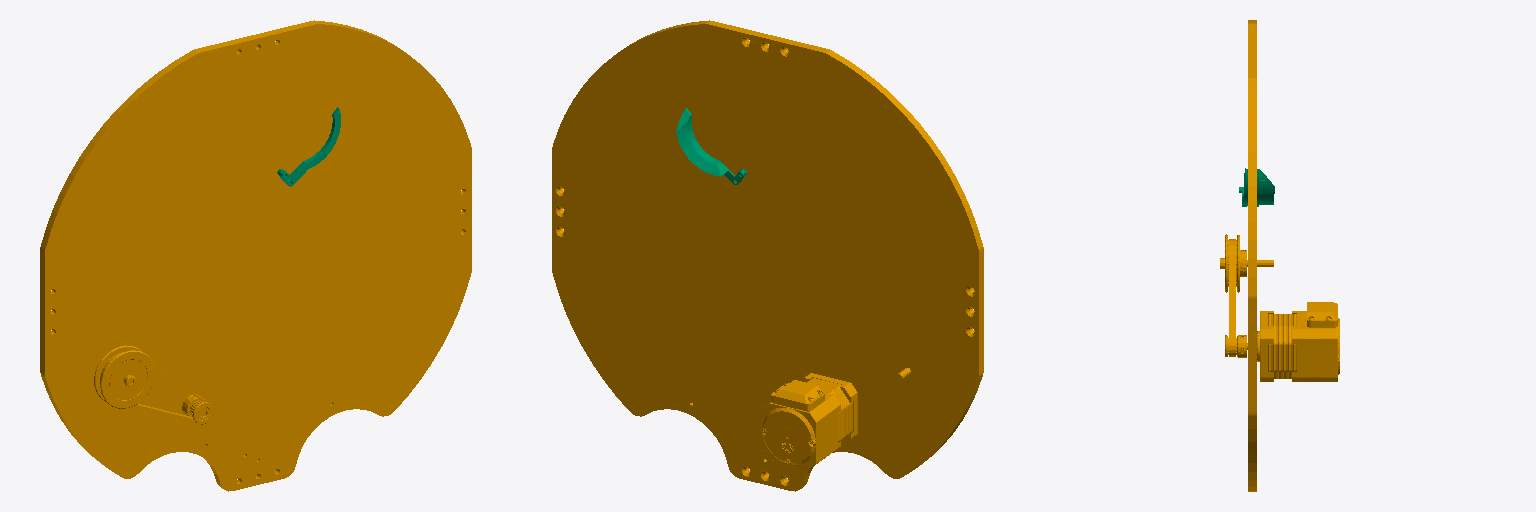
robot.urdf — v5_gripper:
<robot name="v5_gripper">
	<link name="base_link">
		<inertial>
			<origin rpy="0 0 0" xyz="-7.99617922246049e-05 -9.373301345926424e-05 0.022688831485682622" />
			<mass value="0.06230882557508056" />
			<inertia ixx="2e-05" ixy="0.0" ixz="0.0" iyy="2e-05" iyz="-0.0" izz="1.8e-05" />
		</inertial>
		<visual>
			<origin rpy="0 0 0" xyz="0 0 0" />
			<geometry>
				<mesh filename="package://v5_gripper_description/meshes/base_link.stl" scale="0.001 0.001 0.001" />
			</geometry>
			<material name="silver" />
		</visual>
		<collision>
			<origin rpy="0 0 0" xyz="0 0 0" />
			<geometry>
				<mesh filename="package://v5_gripper_description/meshes/base_link.stl" scale="0.001 0.001 0.001" />
			</geometry>
		</collision>
	</link>
	<link name="finger_1_1">
		<inertial>
			<origin rpy="0 0 0" xyz="-0.008642610431029825 -0.0223485533956419 0.01797350009267279" />
			<mass value="0.00589987703289726" />
			<inertia ixx="2e-06" ixy="-0.0" ixz="0.0" iyy="1e-06" iyz="1e-06" izz="1e-06" />
		</inertial>
		<visual>
			<origin rpy="0 0 0" xyz="-0.005959 0.022452 -0.054853" />
			<geometry>
				<mesh filename="package://v5_gripper_description/meshes/finger_1_1.stl" scale="0.001 0.001 0.001" />
			</geometry>
			<material name="silver" />
		</visual>
		<collision>
			<origin rpy="0 0 0" xyz="-0.005959 0.022452 -0.054853" />
			<geometry>
				<mesh filename="package://v5_gripper_description/meshes/finger_1_1.stl" scale="0.001 0.001 0.001" />
			</geometry>
		</collision>
	</link>
	<link name="finger_4_1">
		<inertial>
			<origin rpy="0 0 0" xyz="0.022522095224022032 -0.0022060565296590394 0.017840959663214417" />
			<mass value="0.005899858594402945" />
			<inertia ixx="1e-06" ixy="-0.0" ixz="-1e-06" iyy="2e-06" iyz="-0.0" izz="1e-06" />
		</inertial>
		<visual>
			<origin rpy="0 0 0" xyz="-0.022822 -0.00746 -0.054188" />
			<geometry>
				<mesh filename="package://v5_gripper_description/meshes/finger_4_1.stl" scale="0.001 0.001 0.001" />
			</geometry>
			<material name="silver" />
		</visual>
		<collision>
			<origin rpy="0 0 0" xyz="-0.022822 -0.00746 -0.054188" />
			<geometry>
				<mesh filename="package://v5_gripper_description/meshes/finger_4_1.stl" scale="0.001 0.001 0.001" />
			</geometry>
		</collision>
	</link>
	<link name="finger_3_1">
		<inertial>
			<origin rpy="0 0 0" xyz="0.008090867314456025 0.02343237115984798 0.016811323538146863" />
			<mass value="0.005899939849310272" />
			<inertia ixx="2e-06" ixy="-0.0" ixz="0.0" iyy="1e-06" iyz="-1e-06" izz="1e-06" />
		</inertial>
		<visual>
			<origin rpy="0 0 0" xyz="0.007093 -0.024302 -0.053188" />
			<geometry>
				<mesh filename="package://v5_gripper_description/meshes/finger_3_1.stl" scale="0.001 0.001 0.001" />
			</geometry>
			<material name="silver" />
		</visual>
		<collision>
			<origin rpy="0 0 0" xyz="0.007093 -0.024302 -0.053188" />
			<geometry>
				<mesh filename="package://v5_gripper_description/meshes/finger_3_1.stl" scale="0.001 0.001 0.001" />
			</geometry>
		</collision>
	</link>
	<link name="finger_2_1">
		<inertial>
			<origin rpy="0 0 0" xyz="-0.023075113605405432 0.003290870425902617 0.016944927949491317" />
			<mass value="0.005899814079558049" />
			<inertia ixx="1e-06" ixy="-0.0" ixz="1e-06" iyy="2e-06" iyz="0.0" izz="1e-06" />
		</inertial>
		<visual>
			<origin rpy="0 0 0" xyz="0.023955 0.005611 -0.053852" />
			<geometry>
				<mesh filename="package://v5_gripper_description/meshes/finger_2_1.stl" scale="0.001 0.001 0.001" />
			</geometry>
			<material name="silver" />
		</visual>
		<collision>
			<origin rpy="0 0 0" xyz="0.023955 0.005611 -0.053852" />
			<geometry>
				<mesh filename="package://v5_gripper_description/meshes/finger_2_1.stl" scale="0.001 0.001 0.001" />
			</geometry>
		</collision>
	</link>
	<joint name="Revolute 5" type="revolute">
		<origin rpy="0 0 0" xyz="0.005959 -0.022452 0.054853" />
		<parent link="base_link" />
		<child link="finger_1_1" />
		<axis xyz="0.999727 0.017623 0.01534" />
		<limit effort="100" lower="-1.134464" upper="0.0" velocity="100" />
	</joint>
	<joint name="Revolute 6" type="revolute">
		<origin rpy="0 0 0" xyz="0.022822 0.00746 0.054188" />
		<parent link="base_link" />
		<child link="finger_4_1" />
		<axis xyz="-0.017134 0.999359 -0.031436" />
		<limit effort="100" lower="-1.134464" upper="0.0" velocity="100" />
	</joint>
	<joint name="Revolute 7" type="revolute">
		<origin rpy="0 0 0" xyz="-0.007093 0.024302 0.053188" />
		<parent link="base_link" />
		<child link="finger_3_1" />
		<axis xyz="-0.999727 -0.017623 -0.01534" />
		<limit effort="100" lower="-1.134464" upper="0.0" velocity="100" />
	</joint>
	<joint name="Revolute 8" type="revolute">
		<origin rpy="0 0 0" xyz="-0.023955 -0.005611 0.053852" />
		<parent link="base_link" />
		<child link="finger_2_1" />
		<axis xyz="0.017134 -0.999359 0.031436" />
		<limit effort="100" lower="-1.134464" upper="0.0" velocity="100" />
	</joint>
	<mujoco>
		<compiler balanceinertia="true" discardvisual="false" meshdir="../meshes" />
		<asset>
			<material name="grid" reflectance="0.2" texrepeat="1 1" texture="grid" texuniform="true" />
		</asset>
	</mujoco>
</robot>

--- What the picture shows (computed from the rendered views, not written in the file) ---
3 views of the same robot in one strip: view 1: azimuth 30°, elevation 25°; view 2: azimuth 150°, elevation 25°; view 3: azimuth 270°, elevation 25° (orthographic).
Model v5_gripper with 5 links and 4 joints (4 revolute), rooted at base_link, posed every joint at zero.
Links seen in each view (by area): view 1: base_link, finger_4_1; view 2: base_link, finger_4_1; view 3: base_link, finger_4_1.
Link boxes in pixels (box(x1,y1,x2,y2)): base_link: box(40, 20, 471, 491); finger_4_1: box(277, 107, 340, 186); base_link: box(552, 20, 983, 491); finger_4_1: box(676, 108, 746, 184); base_link: box(1220, 20, 1339, 491); finger_4_1: box(1239, 168, 1274, 206).
Size in the robot's own frame: 0.033 by 0.0087 by 0.033 metres.
2 mesh visuals loaded from 5 distinct referenced files (2 binary STL); not drawn: 3 (reference not matched to a file when rendering).